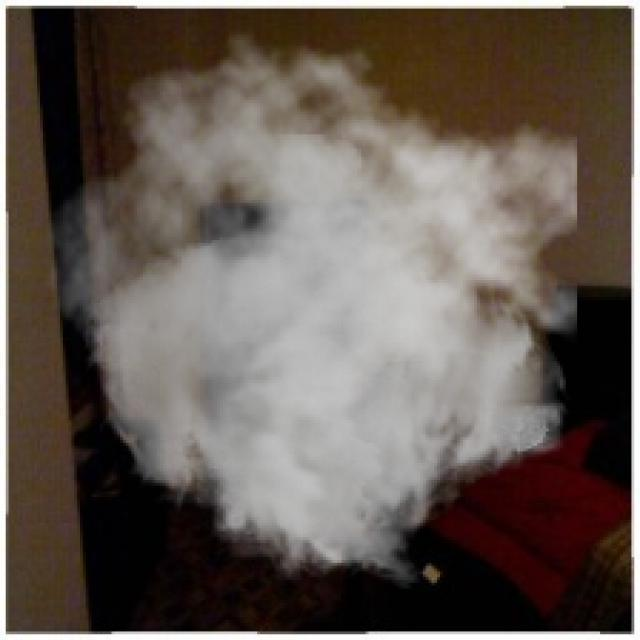Smoke: (45, 29, 578, 592)
